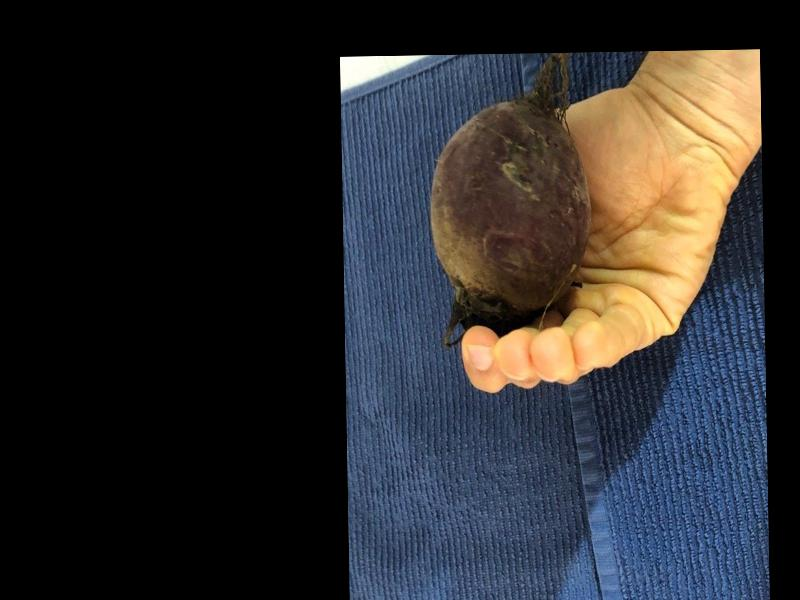Beet: (428, 55, 594, 351)
